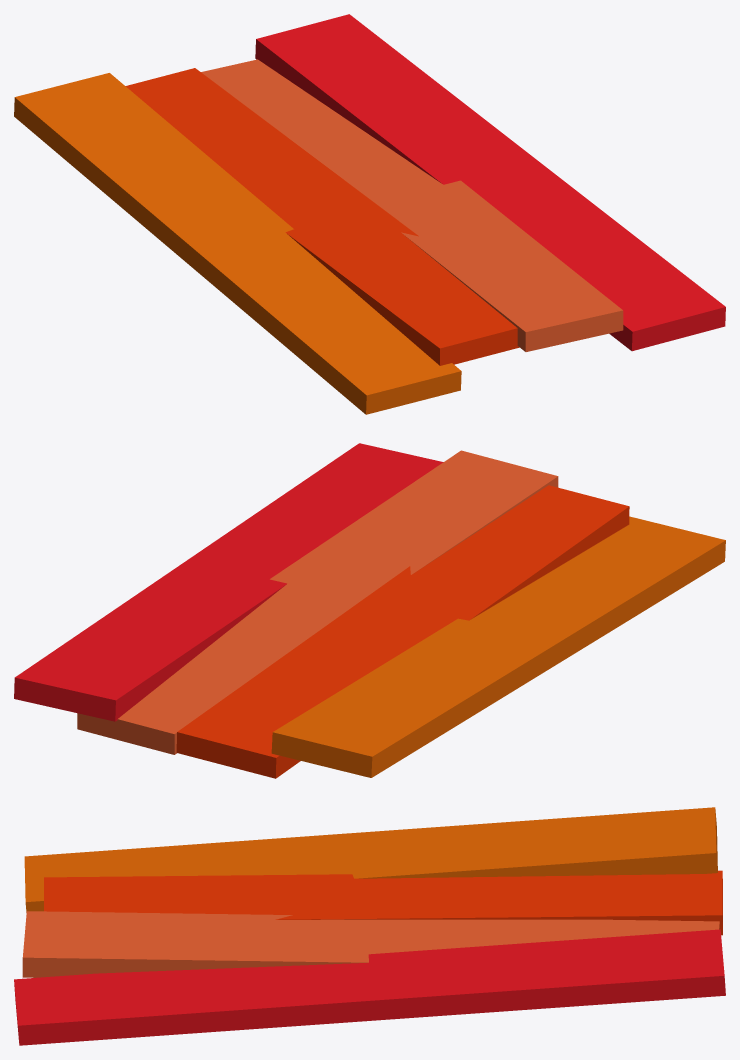
Rendered from HorizontalPlank.fbx.
3 renders of one model, top to bottom at view 1: azimuth 30°, elevation 25°; view 2: azimuth 150°, elevation 25°; view 3: azimuth 270°, elevation 25°, orthographic. The views are drawn at different scales.
Visible parts, largest first — view 1: Plank.001, Plank.005, Plank.002, Plank.003; view 2: Plank.001, Plank.005, Plank.002, Plank.003; view 3: Plank.005, Plank.001, Plank.002, Plank.003.
Boxes of the visible parts, left/top/right/bottom form: Plank.001: left=14, top=73, right=461, bottom=414; Plank.005: left=255, top=14, right=725, bottom=351; Plank.002: left=125, top=68, right=519, bottom=365; Plank.003: left=201, top=59, right=623, bottom=351; Plank.001: left=271, top=516, right=725, bottom=777; Plank.005: left=14, top=443, right=443, bottom=721; Plank.002: left=176, top=485, right=629, bottom=778; Plank.003: left=77, top=450, right=558, bottom=754; Plank.005: left=14, top=929, right=725, bottom=1045; Plank.001: left=24, top=807, right=717, bottom=912; Plank.002: left=44, top=870, right=722, bottom=935; Plank.003: left=22, top=911, right=719, bottom=977.
Bounding box in the file's own units: 758 × 134 × 1295.
